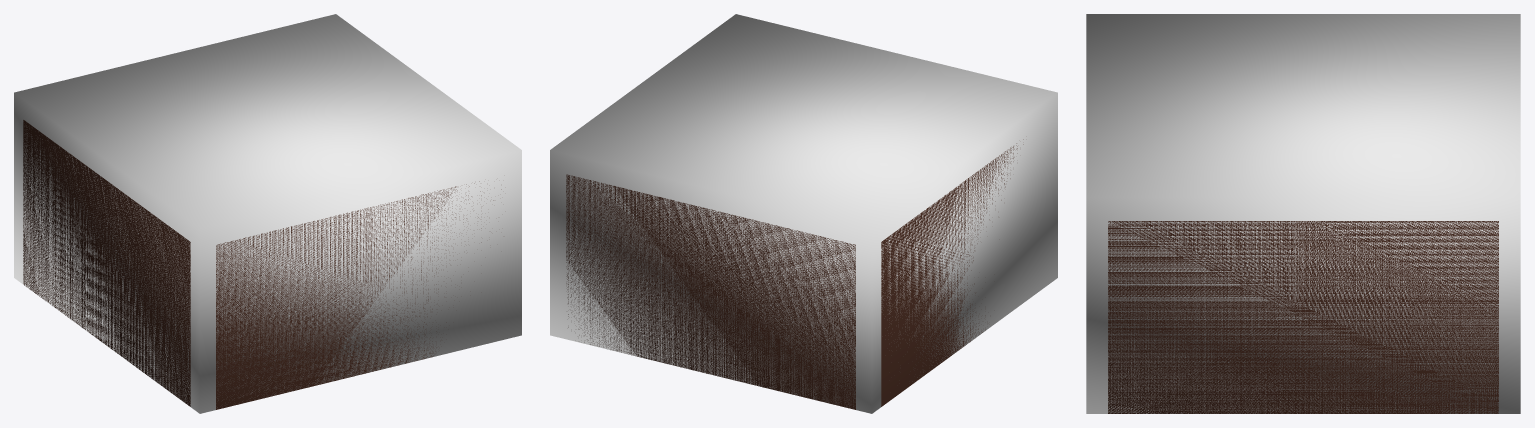
File: dirt_flat.glb
The picture shows the model from 3 angles, left to right: view 1: azimuth 30°, elevation 25°; view 2: azimuth 150°, elevation 25°; view 3: azimuth 270°, elevation 25°; orthographic projection. The views are drawn at different scales.
Visible parts, largest first — view 1: dirt_flat_phy, dirt_flat; view 2: dirt_flat_phy, dirt_flat; view 3: dirt_flat_phy, dirt_flat.
Boxes of the visible parts, left/top/right/bottom form: dirt_flat_phy: left=14, top=14, right=521, bottom=413; dirt_flat: left=23, top=120, right=501, bottom=409; dirt_flat_phy: left=550, top=14, right=1057, bottom=413; dirt_flat: left=566, top=139, right=1023, bottom=409; dirt_flat_phy: left=1086, top=14, right=1520, bottom=413; dirt_flat: left=1108, top=221, right=1498, bottom=413.
Size of the model in its own units: 1 by 0.55 by 1.
